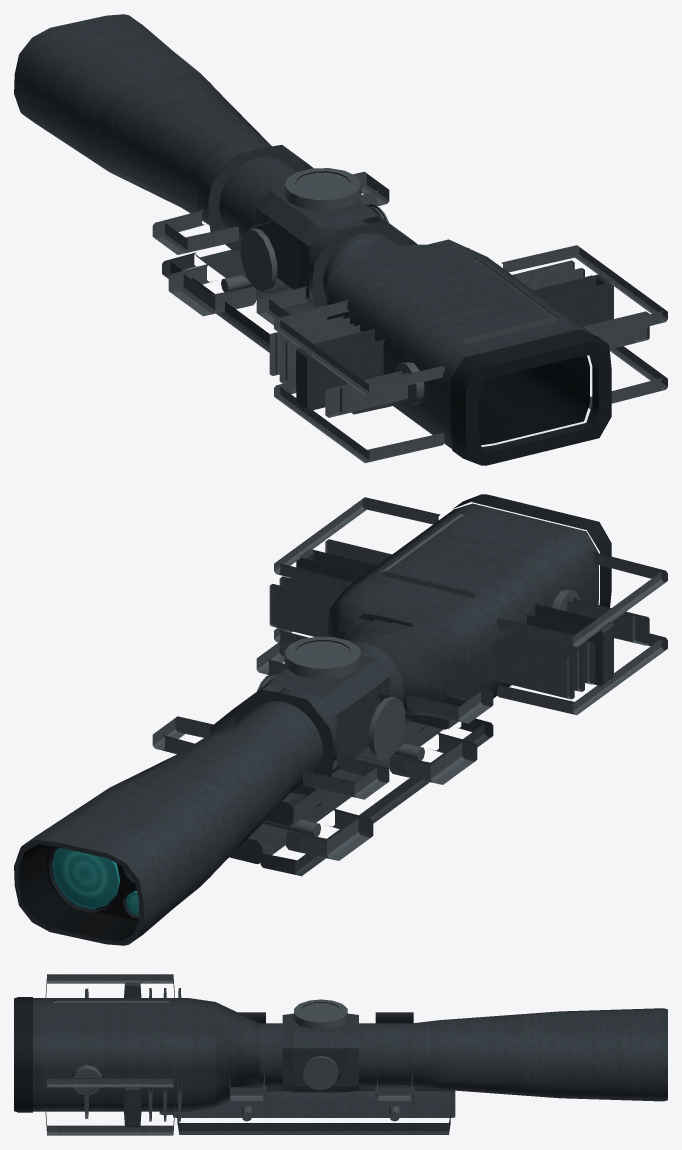
Rendered from spr_scope_light.glb.
The picture shows the model from 3 angles, top to bottom: view 1: azimuth 30°, elevation 25°; view 2: azimuth 150°, elevation 25°; view 3: azimuth 270°, elevation 25°; orthographic projection. The views are drawn at different scales.
Visible parts, largest first — view 1: ScopeHousing, ScopeMount, ScopeDarkInterior; view 2: ScopeHousing, ScopeMount, ScopeDarkInterior, FrontObjectiveGlass; view 3: ScopeHousing, ScopeMount.
Part boxes in pixels (x1,y1,x2,y2): ScopeHousing: (14, 14, 667, 465); ScopeMount: (152, 145, 469, 414); ScopeDarkInterior: (478, 355, 589, 445); ScopeHousing: (14, 494, 667, 945); ScopeMount: (152, 613, 493, 876); ScopeDarkInterior: (19, 844, 138, 941); FrontObjectiveGlass: (52, 847, 139, 915); ScopeHousing: (14, 974, 667, 1135); ScopeMount: (159, 1012, 455, 1134).
Size of the model in its own units: 0.1182 by 0.0498 by 0.292.
Materials: 6 (6 with a texture image).
